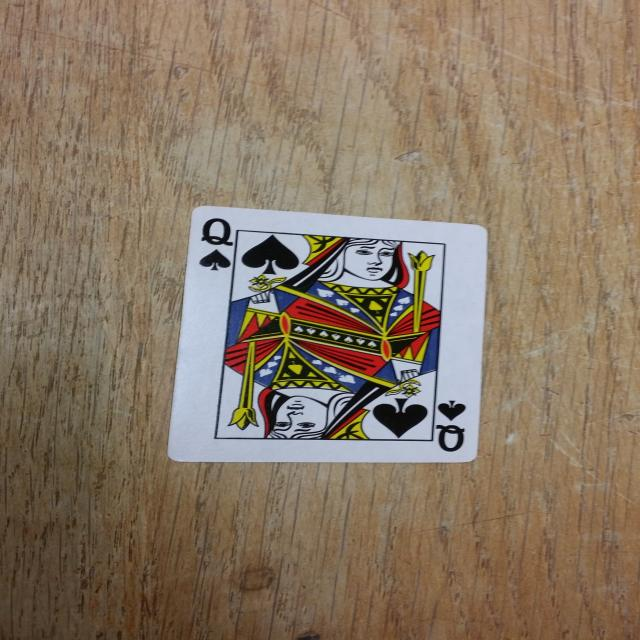Qs: (188, 210, 250, 274), (423, 397, 473, 454)
